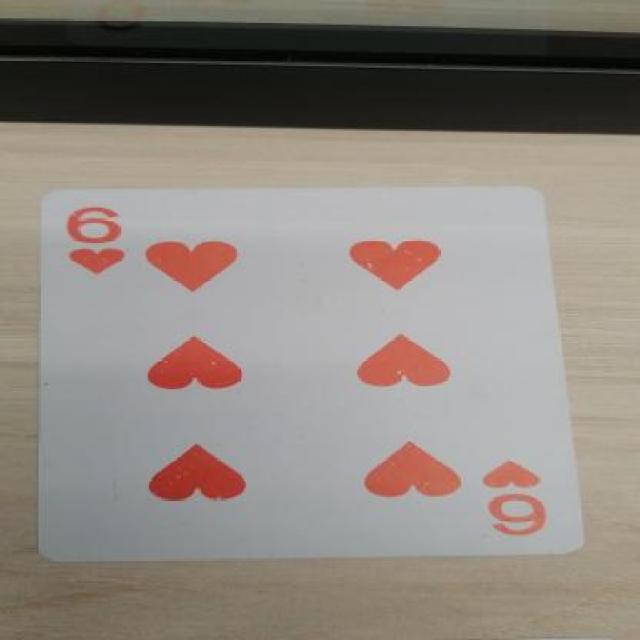6H: (474, 456, 588, 552), (49, 203, 151, 280)
